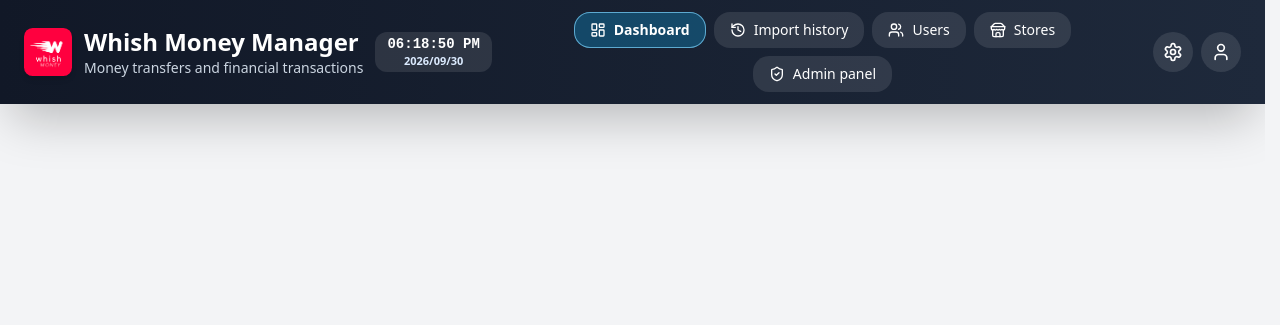
screens in English › header: labels, role, last login, clock order, left-to-right
The width and height of the screenshot is (1280, 325).
Expected: the navigation bar named "Main menu" is shown, [574,12,1071,92]
Step 1. Click the button with test id "user-menu-button" → (1221, 52), box [1201,32,1241,72]
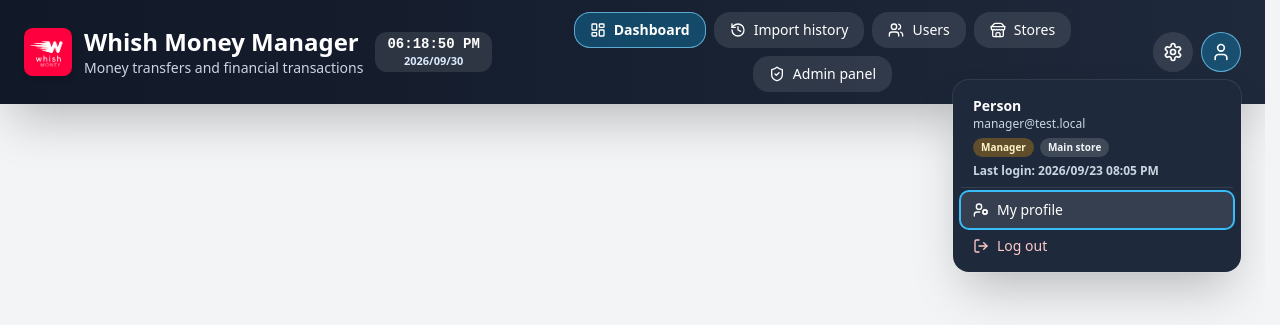
Expected: the menu item "Log out" is shown, [961,228,1233,264]
Expected: the menu item with test id "profile-link" reads "My profile", [961,192,1233,228]
Expected: the text with test id "role-badge" reads "Manager", [981,140,1026,154]
